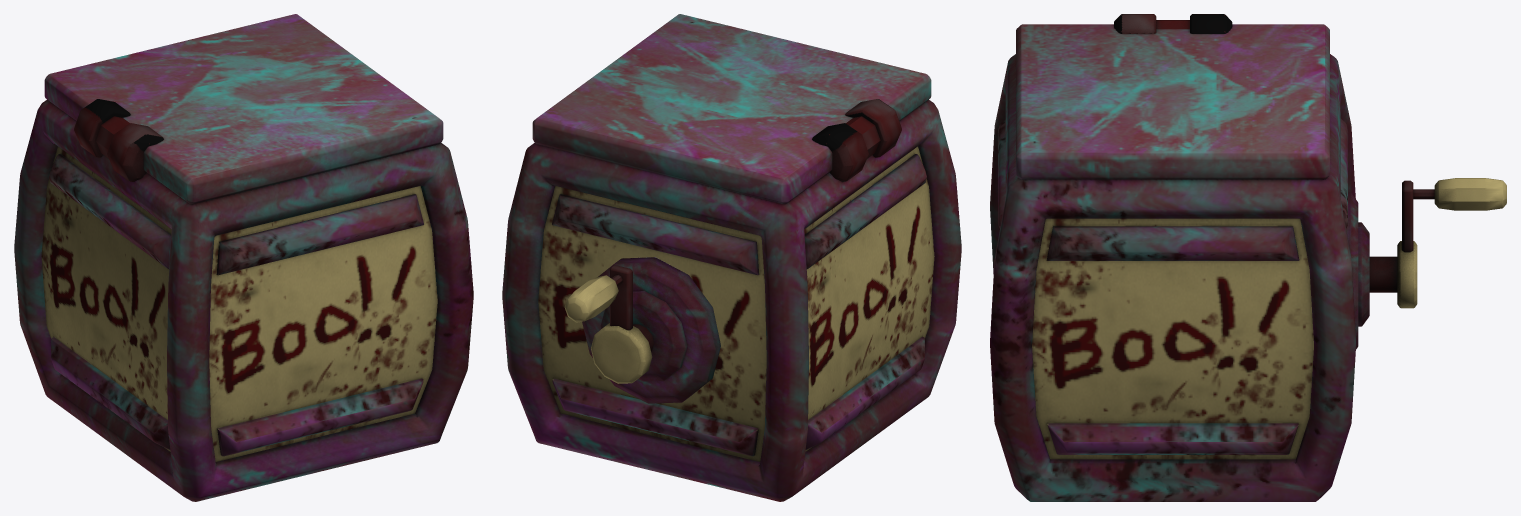
File: jackbox.fbx
3 renders of one model, left to right at view 1: azimuth 30°, elevation 25°; view 2: azimuth 150°, elevation 25°; view 3: azimuth 270°, elevation 25°, orthographic. The views are drawn at different scales.
Visible parts, largest first — view 1: jack_in_the_box; view 2: jack_in_the_box, jack_in_the_box_1; view 3: jack_in_the_box, jack_in_the_box_1.
Part boxes in pixels (box(x1,y1,x2,y2)): jack_in_the_box: box(14, 14, 473, 501); jack_in_the_box: box(502, 14, 961, 501); jack_in_the_box_1: box(564, 257, 720, 403); jack_in_the_box: box(990, 14, 1355, 501); jack_in_the_box_1: box(1346, 178, 1506, 349).
Bounding box in the file's own units: 205 × 222 × 290.
